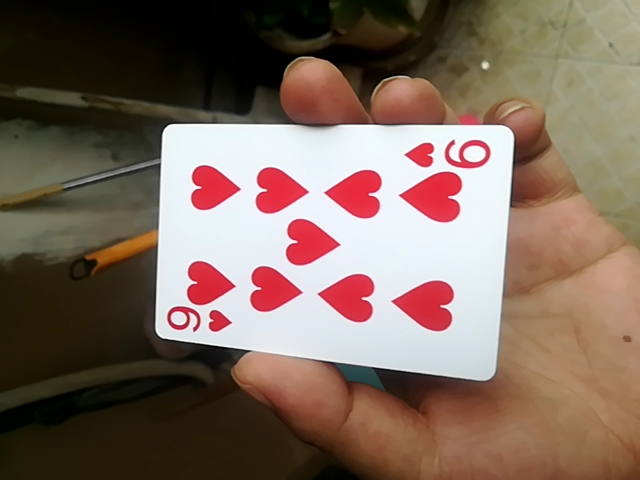hx 9: (149, 119, 513, 382)
